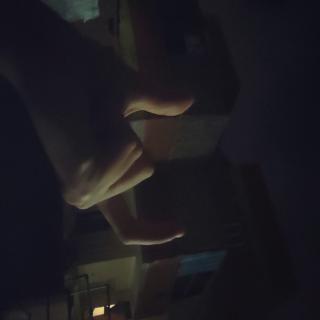NOON: (13, 157, 193, 320)
